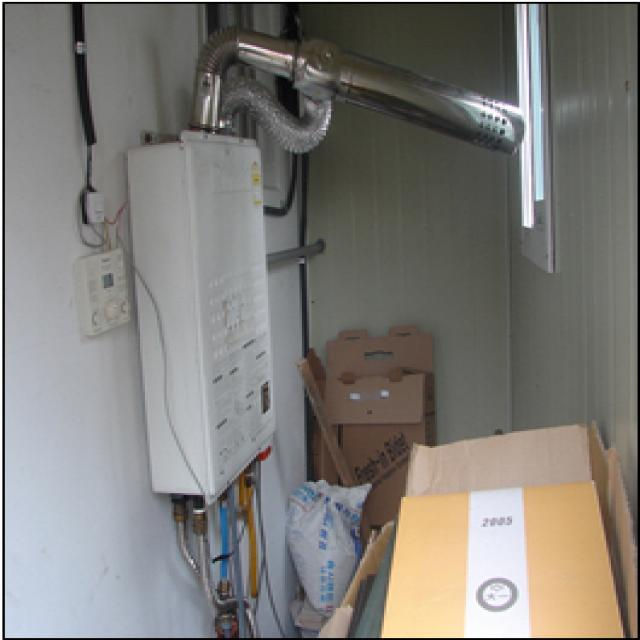Boiler: (86, 104, 336, 580)
